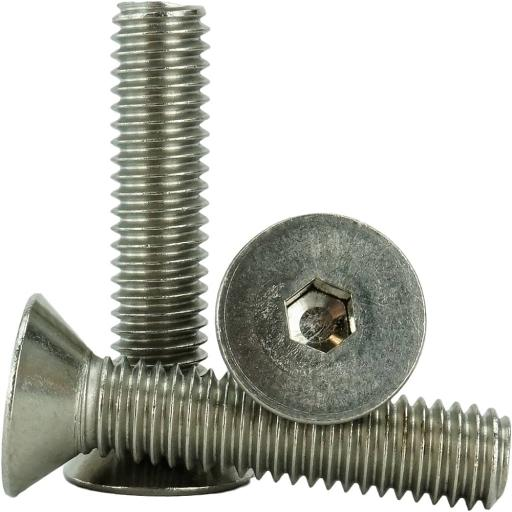Hex-Allen: (217, 213, 428, 425)
